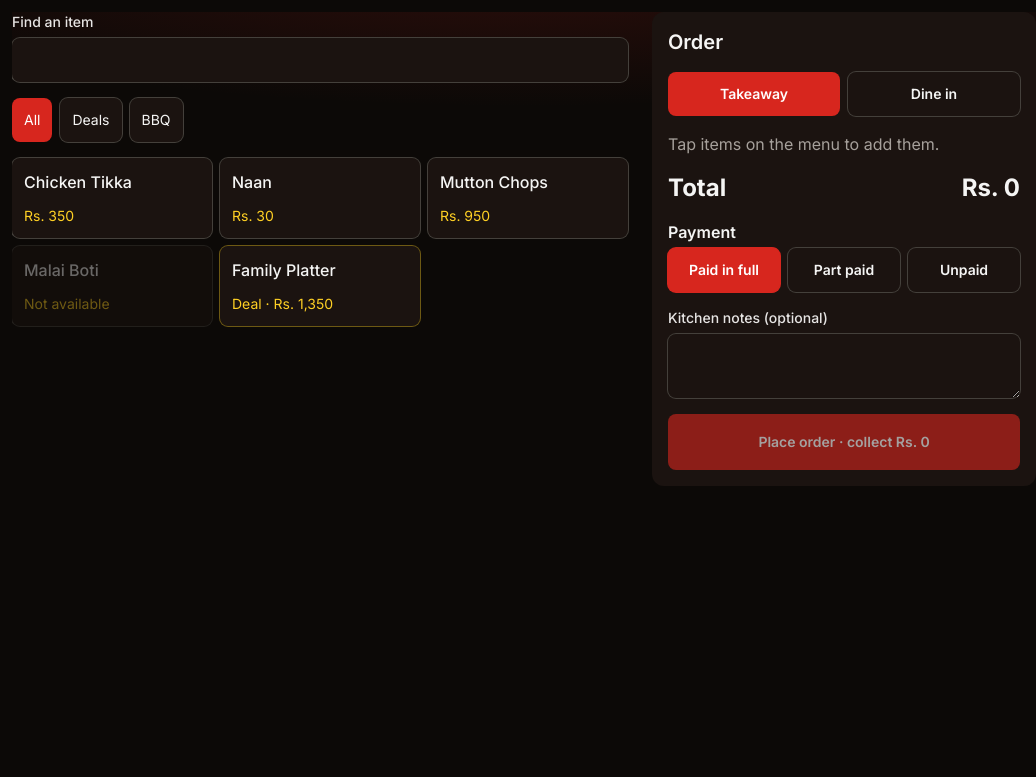
Test: the counter screen › a leftover half-typed number does not block a paid order
This screenshot has width=1036, height=777.
Click the button "Naan Rs. 30": (320, 198) [220,158,420,238]
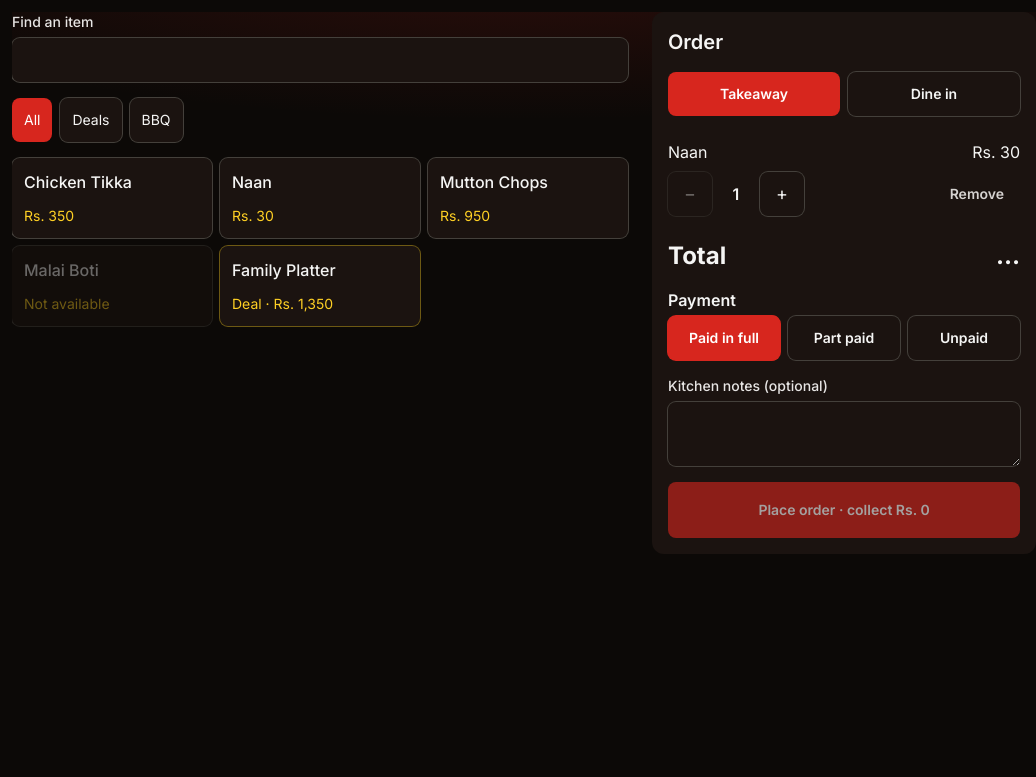
Click the radio button labelled "Unpaid": (964, 338) [908,316,1020,360]
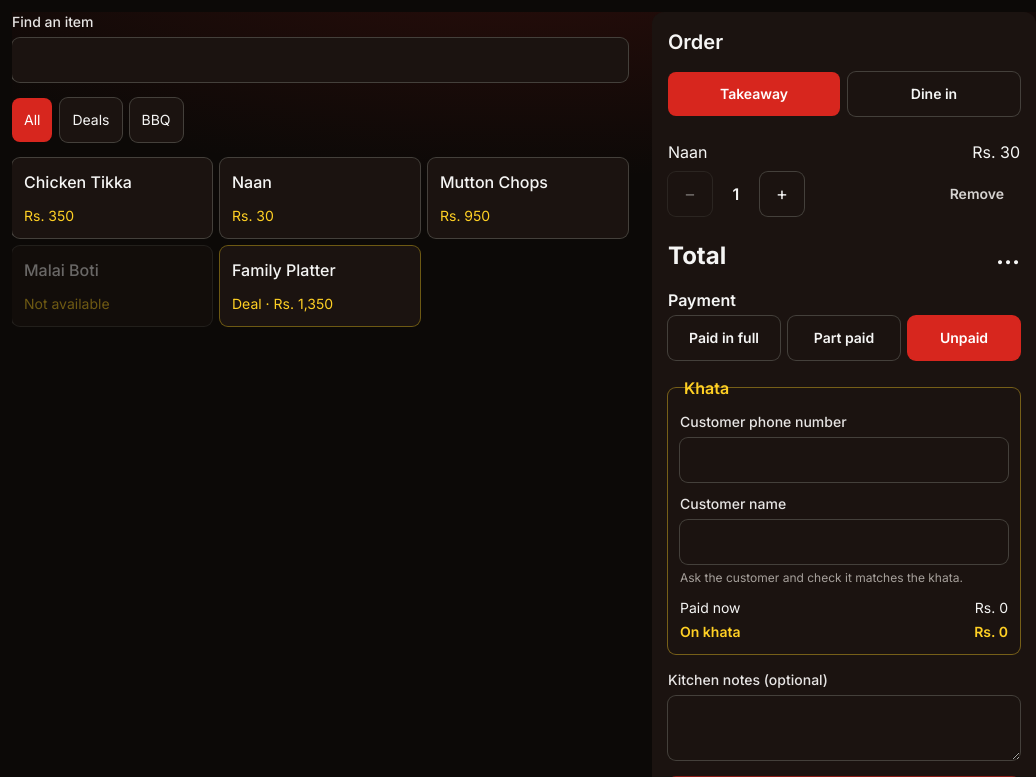
In the field labelled "Customer phone number": (844, 460) [680,438,1008,482], type "0300123"
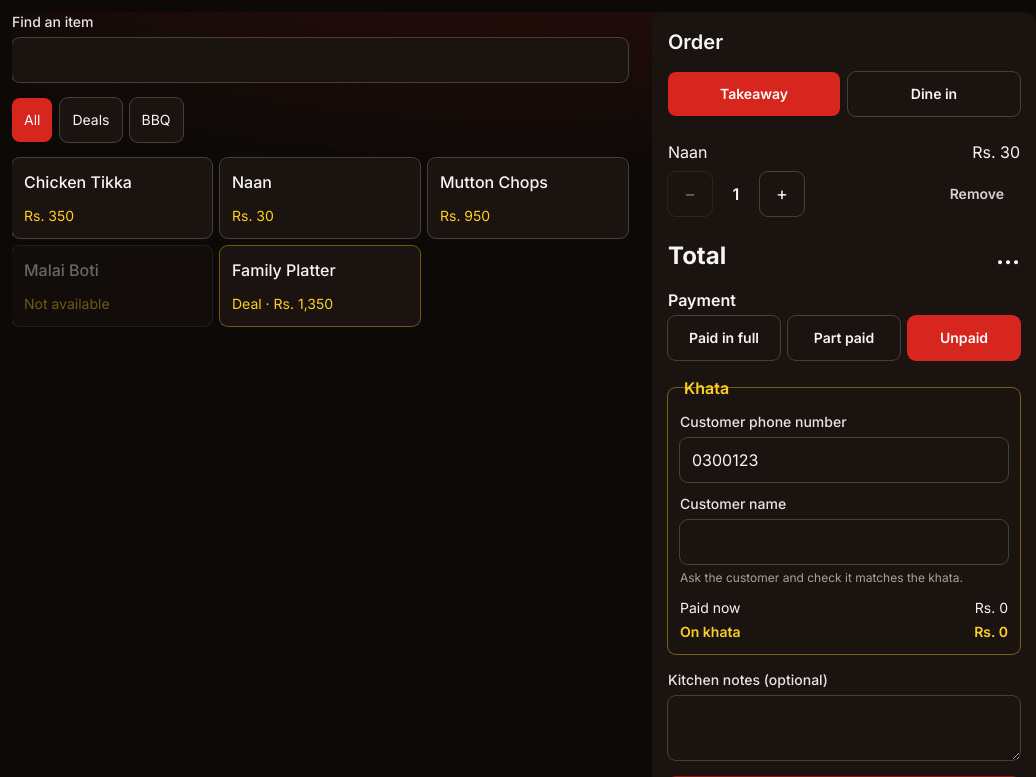
Click the radio button labelled "Paid in full": (724, 338) [668,316,780,360]
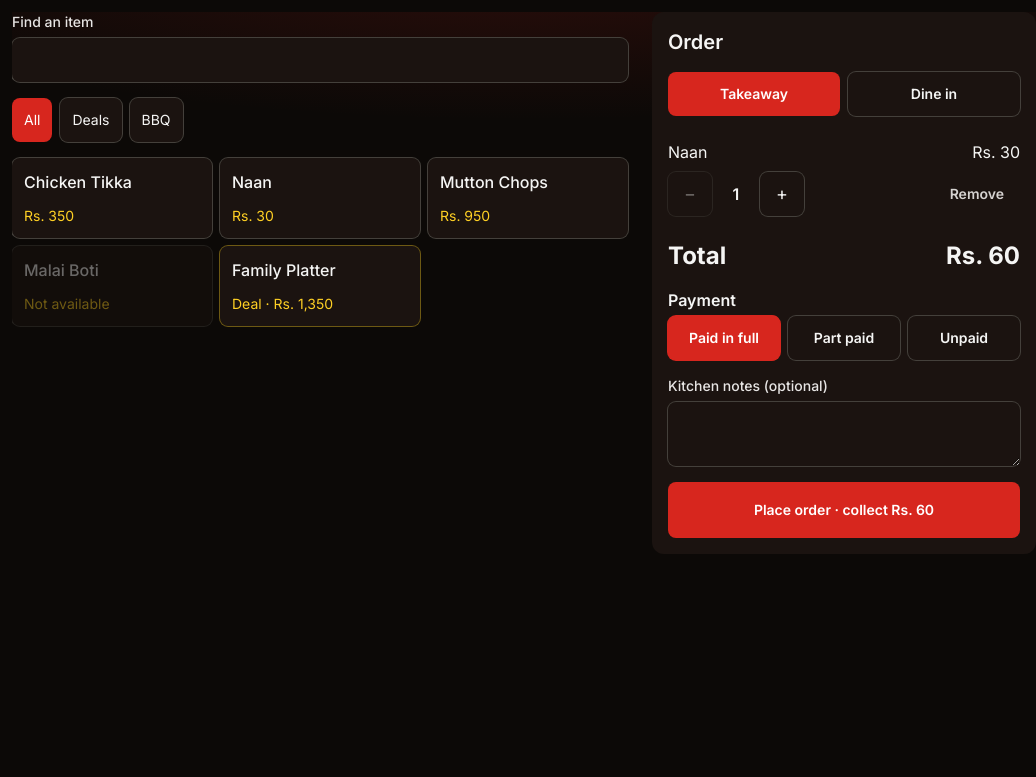
Now the button "Place order · collect Rs. 60" is enabled
Click the button "Place order · collect Rs. 60": (844, 510) [668,482,1020,538]
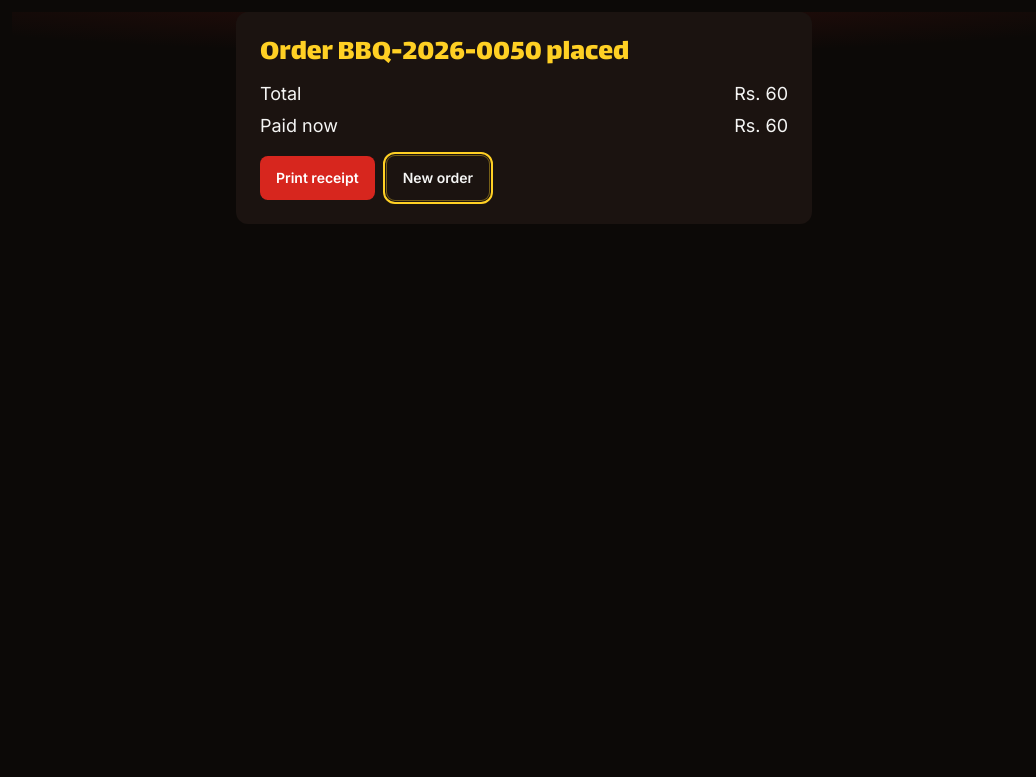
Now the heading "Order BBQ-2026-0050 placed" is shown, box [260,30,629,77]
